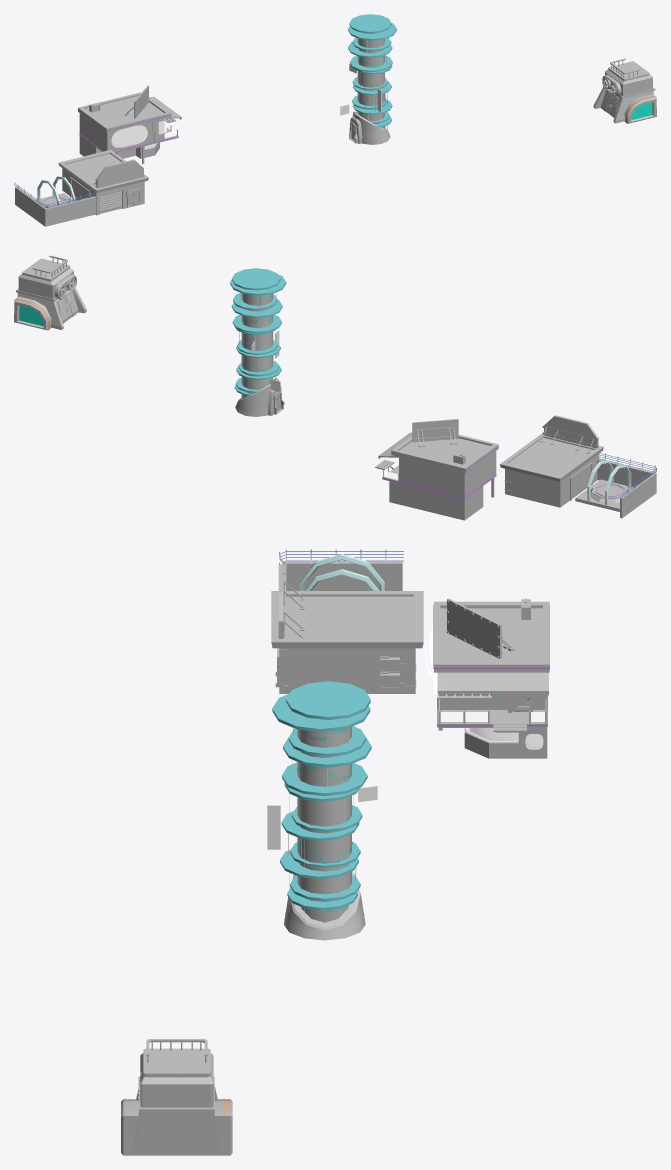
Rendered from Plaza_01_Buildings.fbx.
3 renders of one model, top to bottom at view 1: azimuth 30°, elevation 25°; view 2: azimuth 150°, elevation 25°; view 3: azimuth 270°, elevation 25°, orthographic. The views are drawn at different scales.
Visible parts, largest first — view 1: t2, polySurface669; view 2: t2; view 3: t2.
Boxes of the visible parts, x1,y1,x2,y2 form: t2: (14,14,656,226); polySurface669: (111,125,147,147); t2: (14,255,656,520); t2: (121,549,549,1155).
Bounding box in the file's own units: 257 × 48.51 × 82.96.
